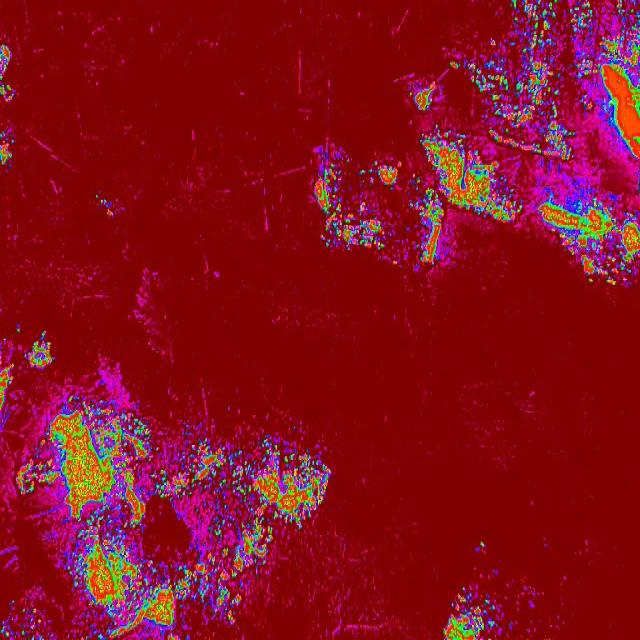fire: (0, 437, 256, 640), (511, 0, 640, 282), (412, 48, 511, 268), (304, 152, 412, 267), (250, 432, 331, 572), (47, 390, 151, 438), (436, 590, 497, 640), (0, 42, 14, 172), (0, 362, 14, 438), (26, 338, 54, 374)
